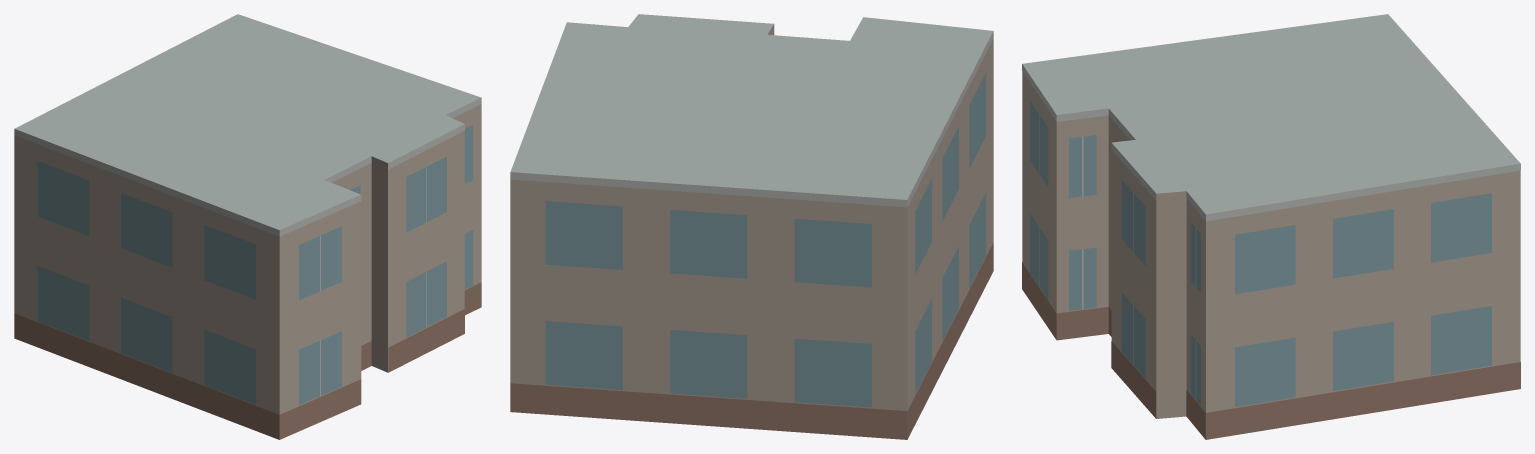
The model's file is survey-upis-32843107.glb.
3 renders of one model, left to right at view 1: azimuth 30°, elevation 25°; view 2: azimuth 150°, elevation 25°; view 3: azimuth 270°, elevation 25°, orthographic. The views are drawn at different scales.
Visible parts, largest first — view 1: survey-upis-32843107.tmp; view 2: survey-upis-32843107.tmp; view 3: survey-upis-32843107.tmp.
Part boxes in pixels (left/top/right/bottom): survey-upis-32843107.tmp: left=14, top=14, right=481, bottom=439; survey-upis-32843107.tmp: left=510, top=14, right=993, bottom=439; survey-upis-32843107.tmp: left=1022, top=14, right=1520, bottom=439.
Size of the model in its own units: 15.09 by 7.9 by 15.85.
